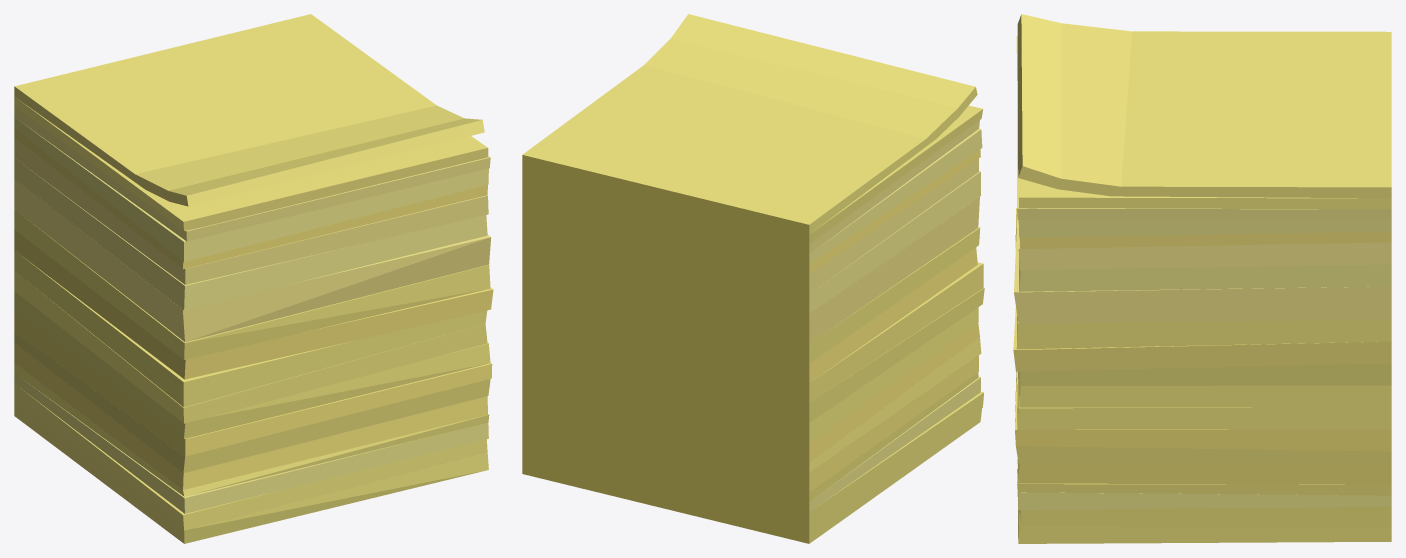
Rendered from Note_Paper_01.fbx.
3 views of the same model, side by side, from view 1: azimuth 30°, elevation 25°; view 2: azimuth 150°, elevation 25°; view 3: azimuth 270°, elevation 25° (orthographic). The views are drawn at different scales.
Visible parts, largest first — view 1: Note_Paper_01; view 2: Note_Paper_01; view 3: Note_Paper_01.
Part boxes in pixels (bbox=[...]): Note_Paper_01: bbox=[14, 14, 493, 543]; Note_Paper_01: bbox=[522, 14, 984, 543]; Note_Paper_01: bbox=[1013, 14, 1391, 543].
Size of the model in its own units: 6.12 by 6.61 by 6.03.
